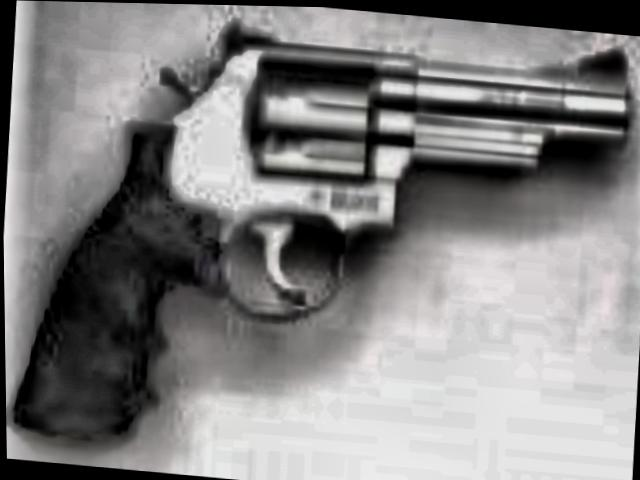pistol: (0, 0, 632, 479)
